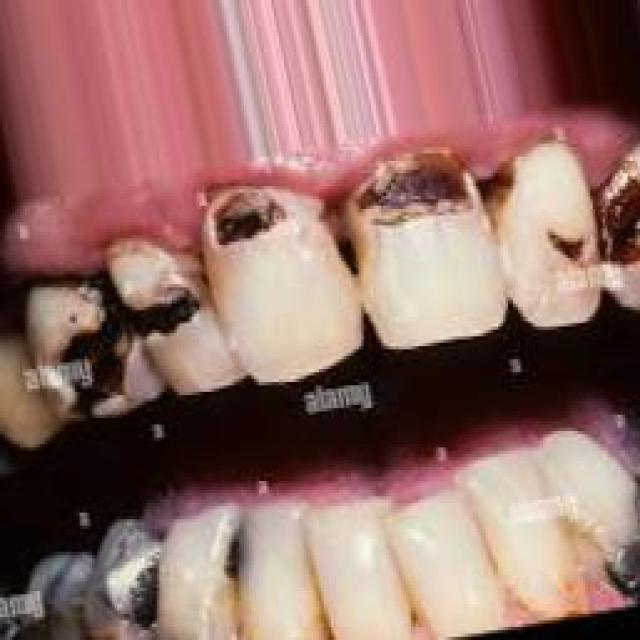caries: (34, 273, 148, 426), (348, 135, 480, 257), (201, 174, 311, 286), (114, 236, 213, 358), (592, 143, 640, 319), (209, 512, 278, 598), (482, 136, 534, 245), (540, 198, 596, 274)
